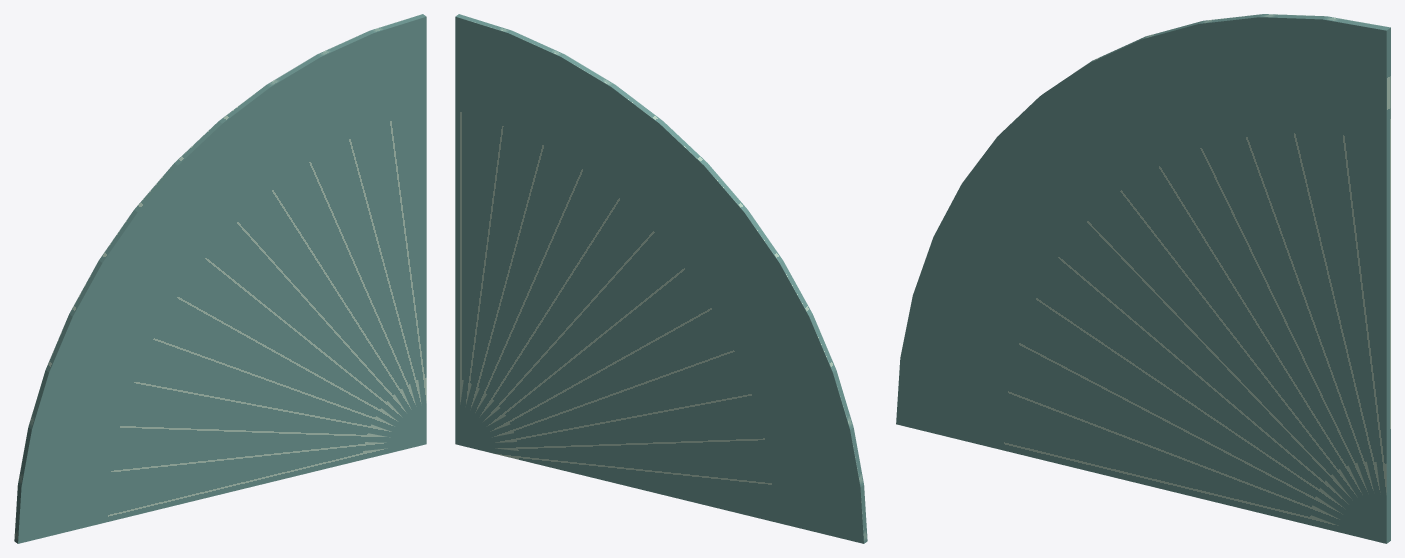
File: arch_glass_left.gltf
3 views of the same model, side by side, from view 1: azimuth 30°, elevation 25°; view 2: azimuth 150°, elevation 25°; view 3: azimuth 330°, elevation 25° (orthographic). The views are drawn at different scales.
Visible parts, largest first — view 1: arched_glazing; view 2: arched_glazing; view 3: arched_glazing.
Part boxes in pixels (box(x1,y1,x2,y2)): arched_glazing: box(14, 14, 426, 543); arched_glazing: box(455, 14, 867, 543); arched_glazing: box(896, 14, 1390, 543).
Bounding box in the file's own units: 1.62 × 1.62 × 0.025.
1 material, 1 textured.
